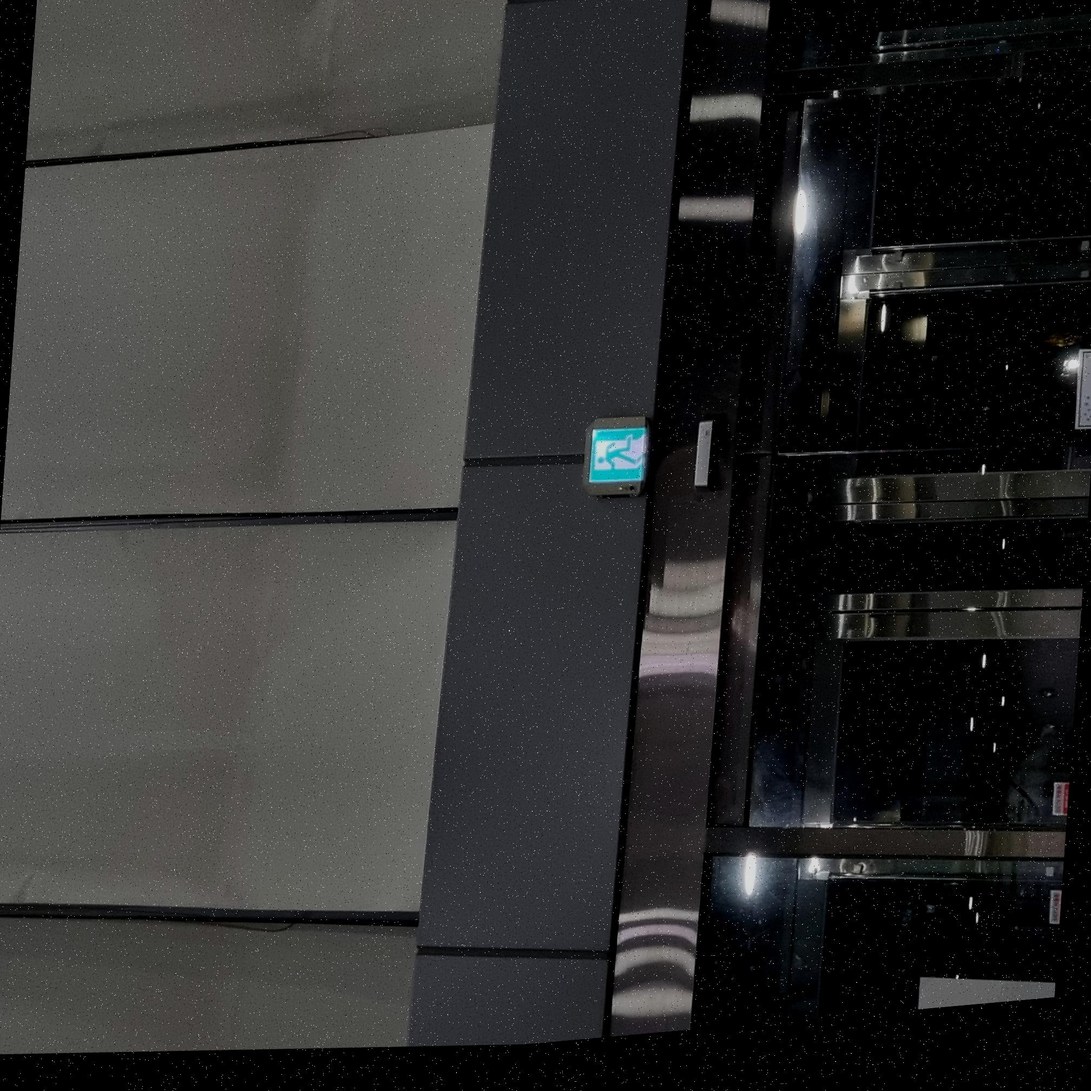emergency_exit: (582, 417, 650, 495)
